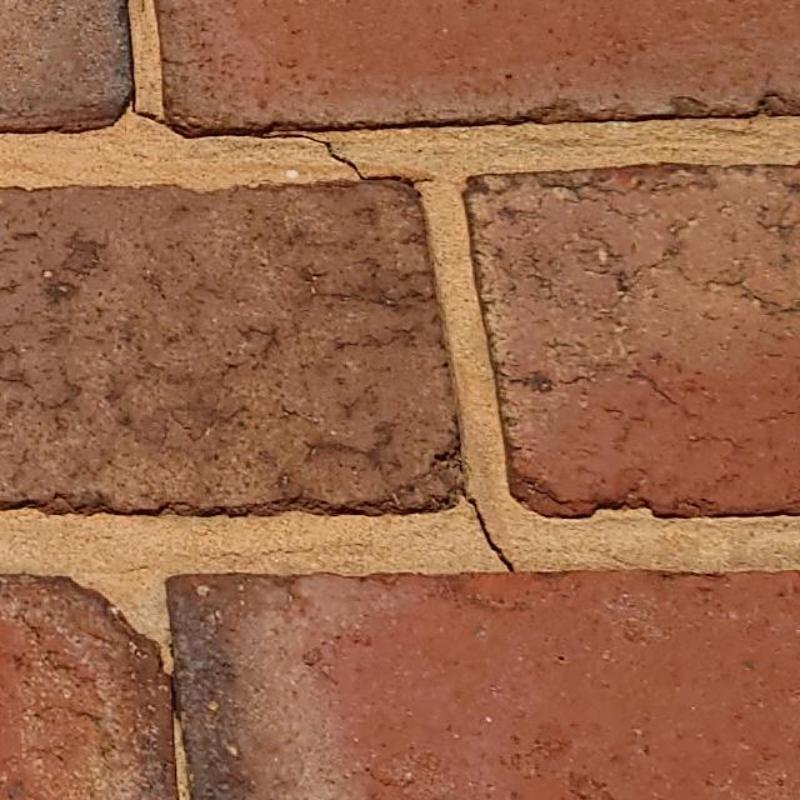pothole: (125, 0, 432, 200), (469, 498, 512, 572)
